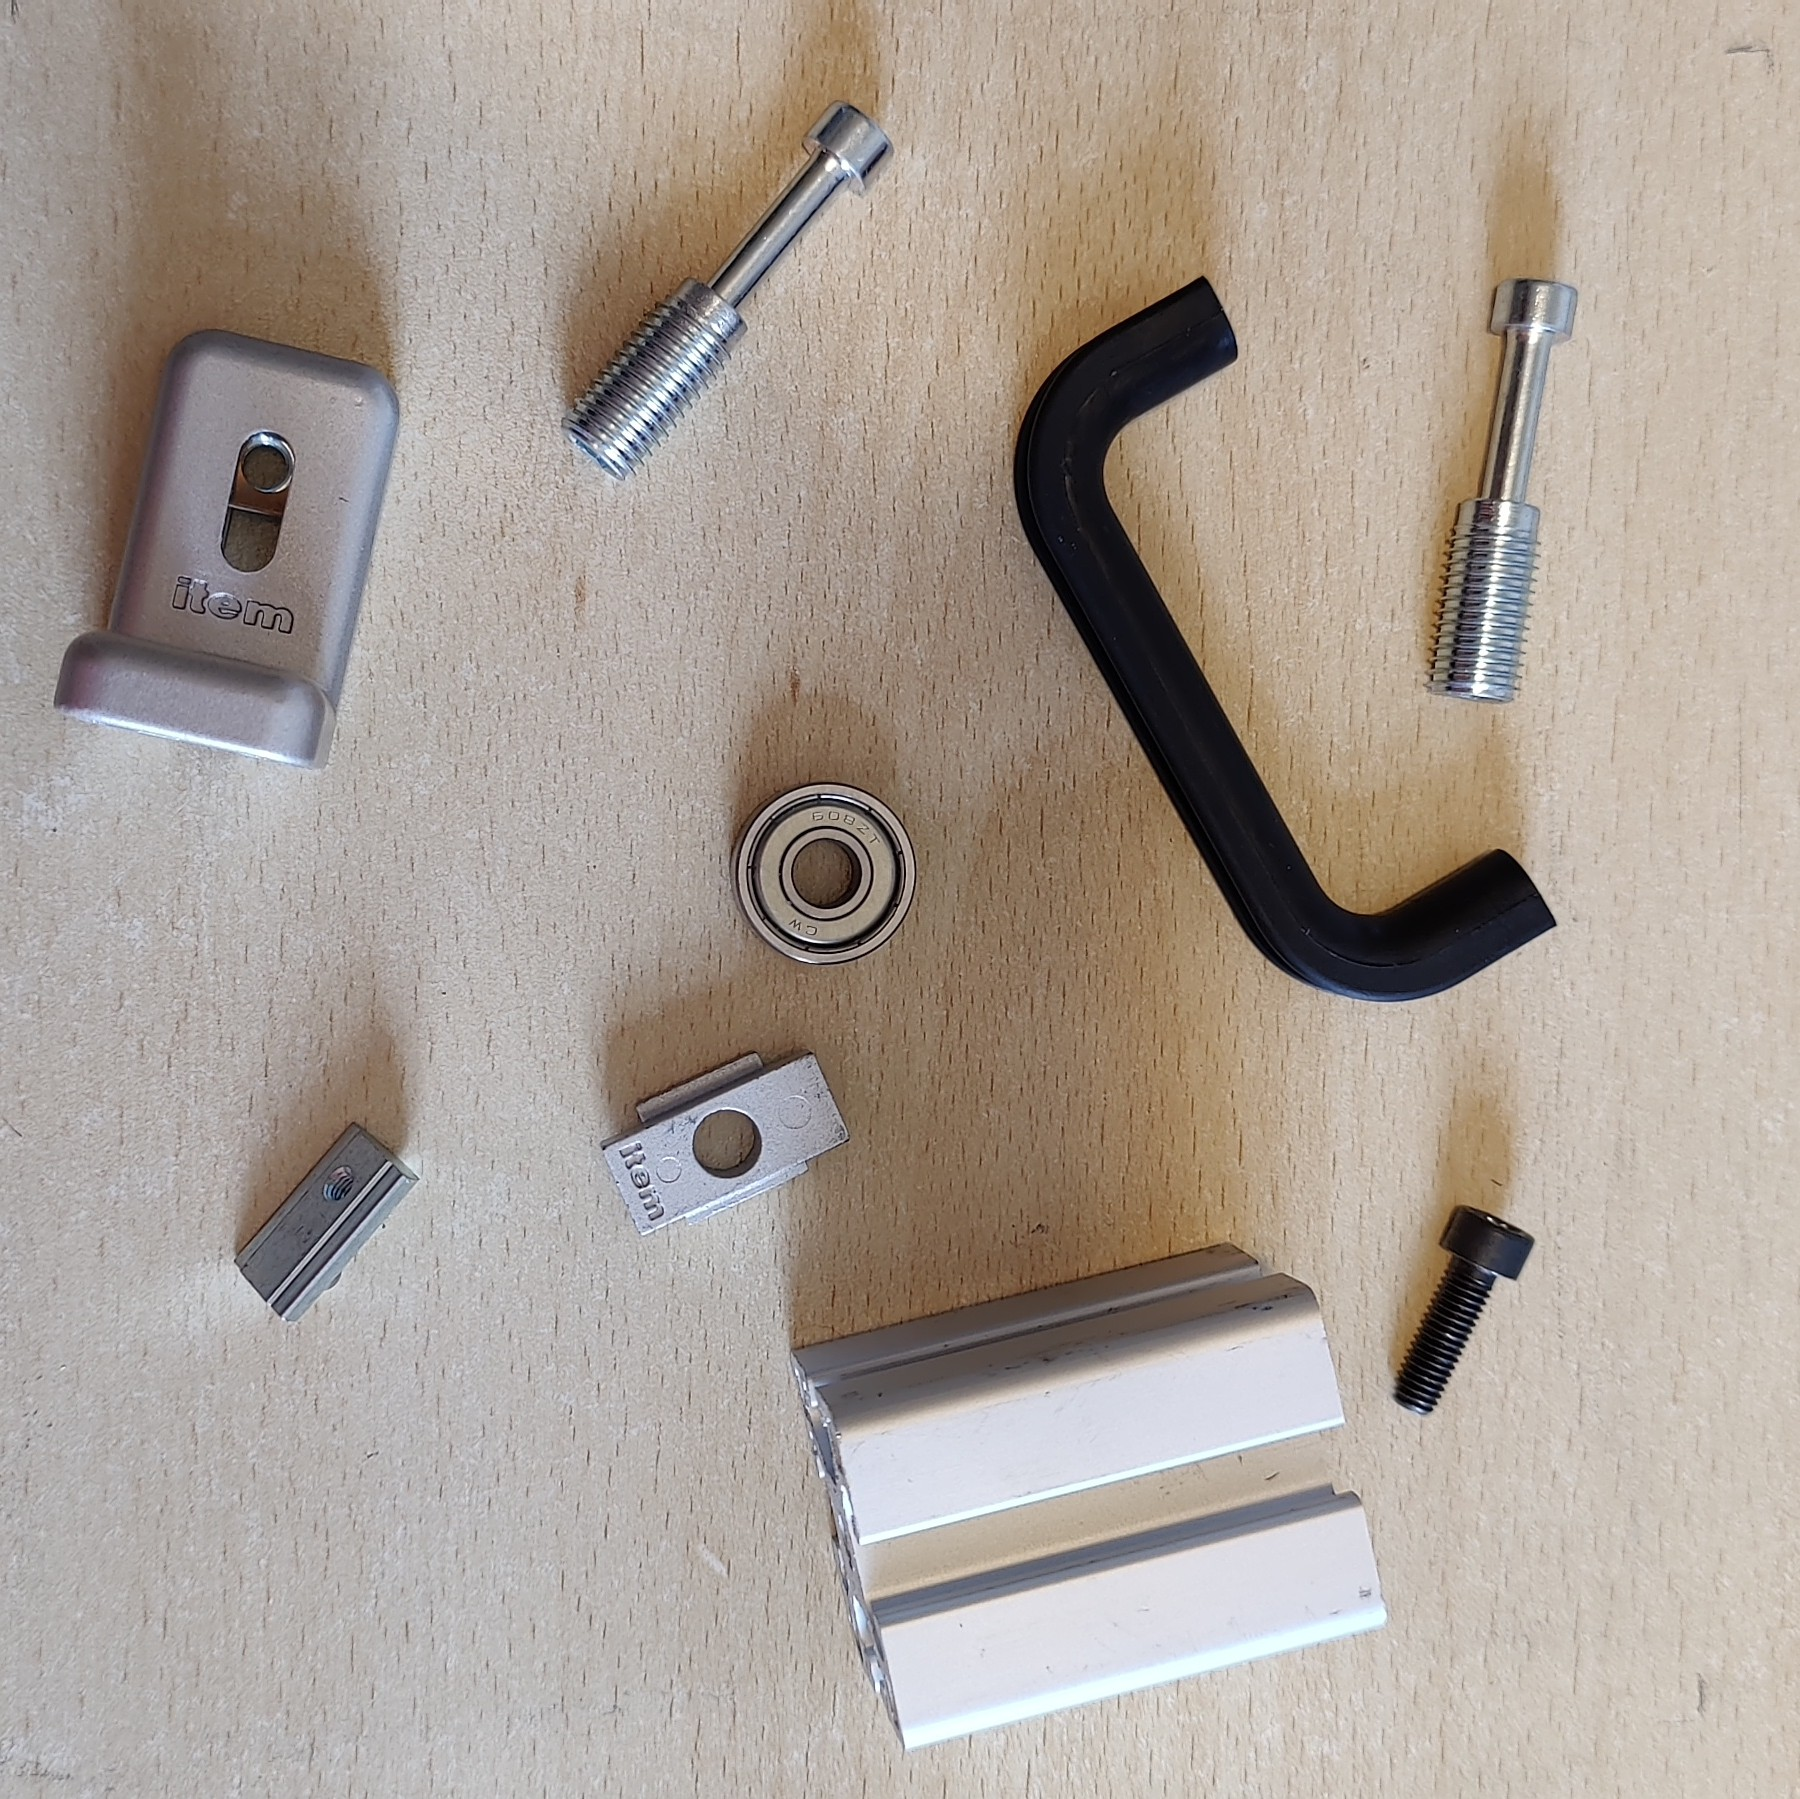Aluminium Extension: (787, 1241, 1388, 1756)
Ball Bearing: (731, 779, 921, 967)
Multiwinkel: (51, 325, 402, 773)
Pull Handle: (1010, 273, 1561, 1007)
Shoulder Socket Head Cap Screw: (558, 97, 896, 484), (1420, 275, 1578, 707)
Socket Head Cap Screw: (1392, 1203, 1537, 1420)
T Nut Square: (596, 1044, 855, 1241)
T Spring Nut: (232, 1115, 423, 1329)
